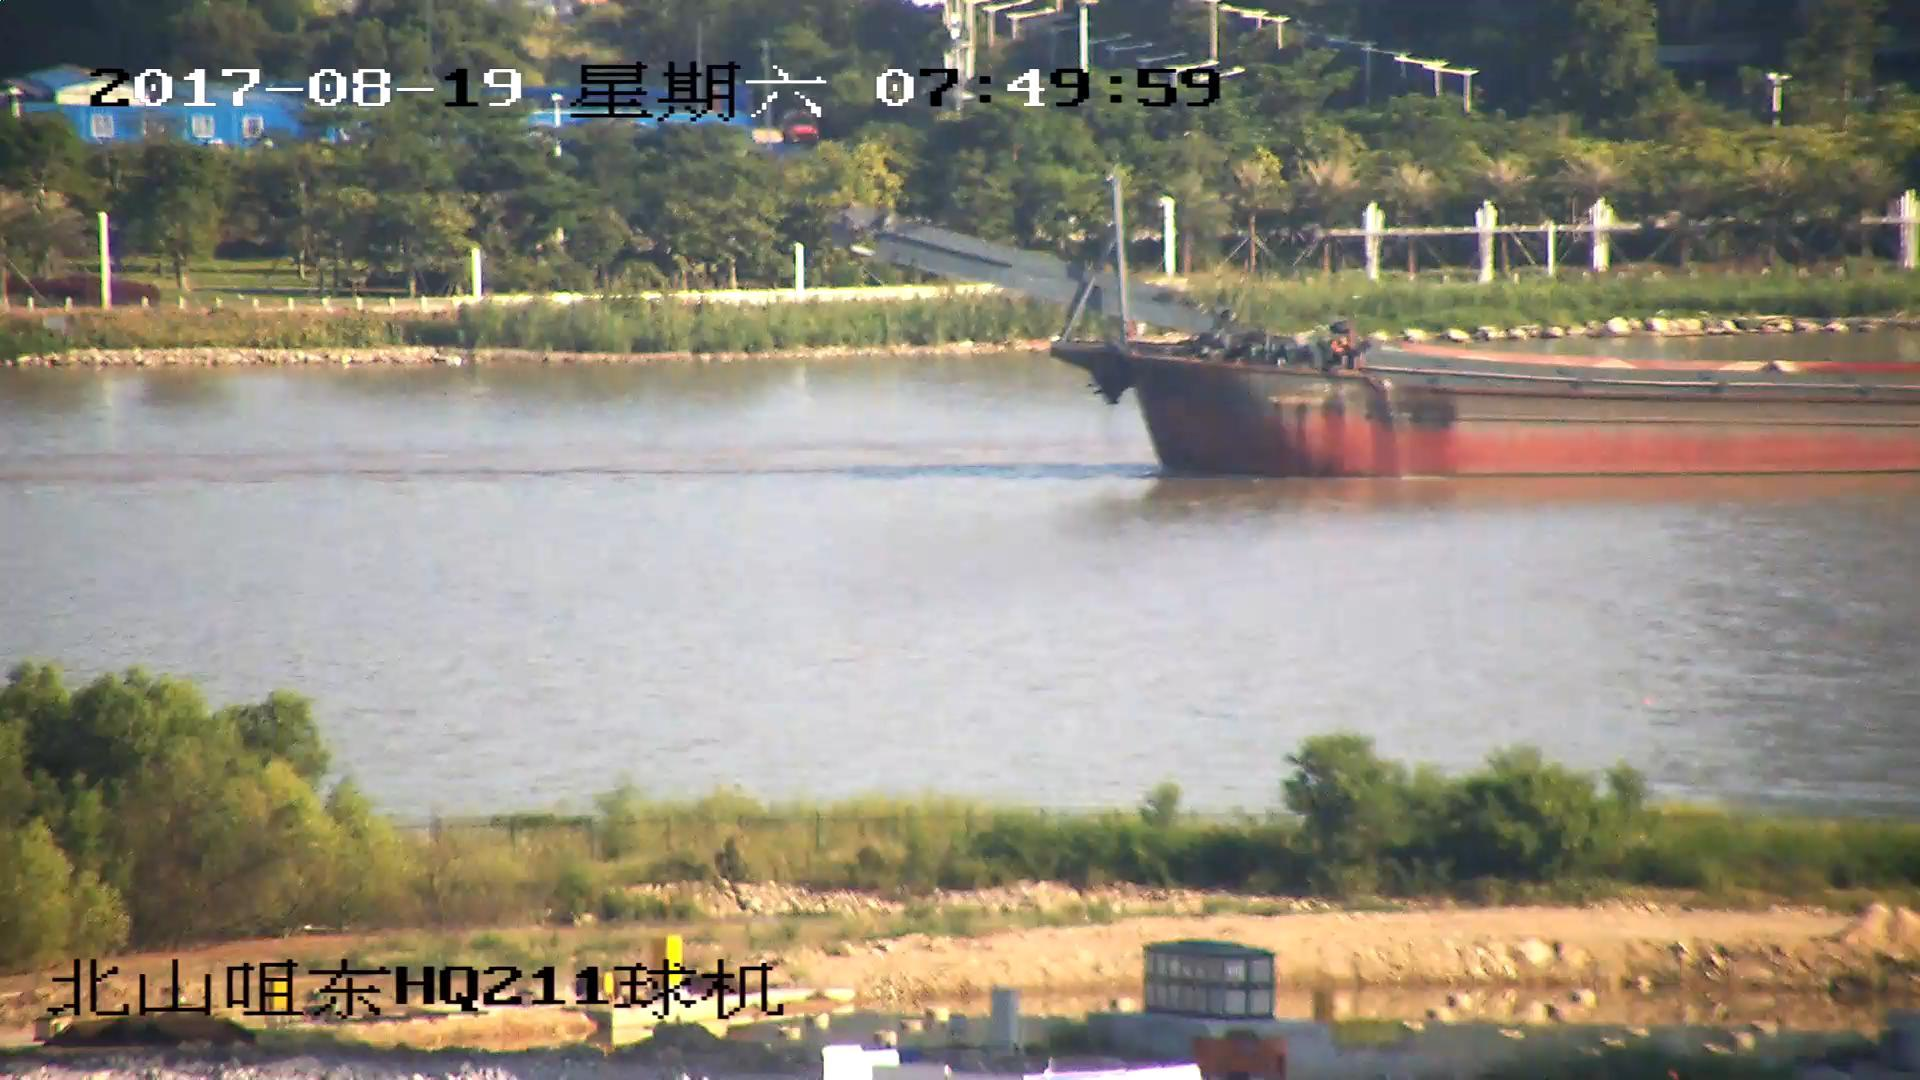Ship: (852, 185, 1920, 480)
